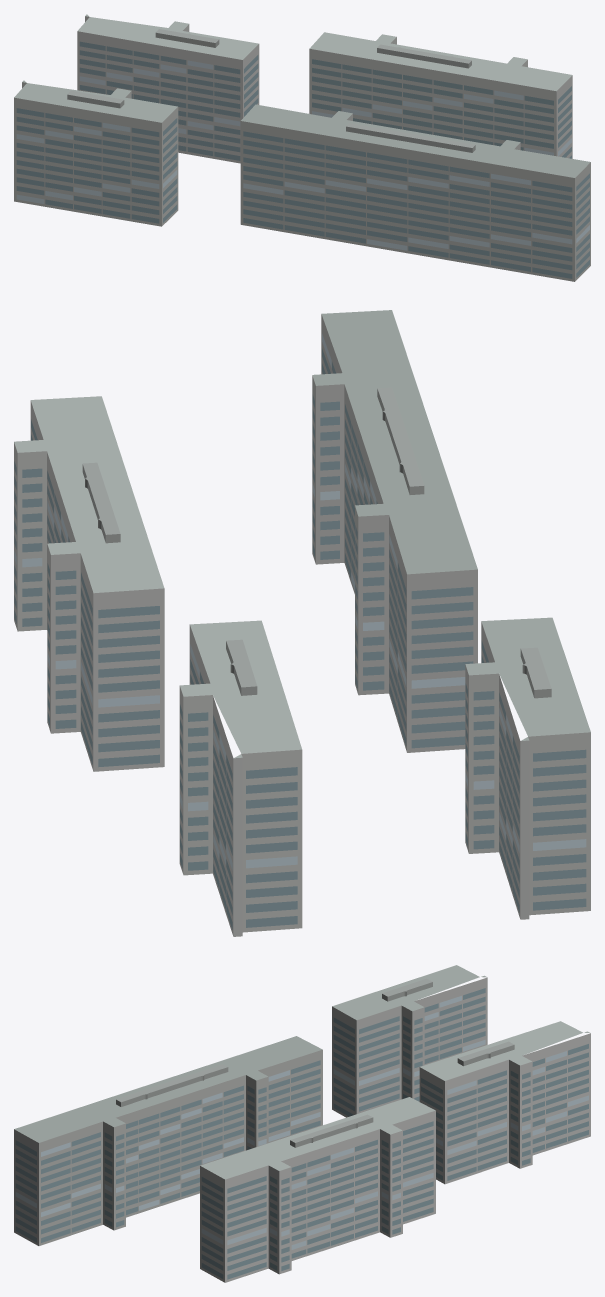
The model's file is apt-a15001012.glb.
3 renders of one model, top to bottom at view 1: azimuth 30°, elevation 25°; view 2: azimuth 150°, elevation 25°; view 3: azimuth 270°, elevation 25°, orthographic. The views are drawn at different scales.
Visible parts, largest first — view 1: apt-a15001012; view 2: apt-a15001012; view 3: apt-a15001012.
Part boxes in pixels (box(x1,y1,x2,y2)): apt-a15001012: box(14, 14, 590, 281); apt-a15001012: box(14, 310, 590, 936); apt-a15001012: box(14, 965, 590, 1282).
Size of the model in its own units: 153 by 36 by 174.
